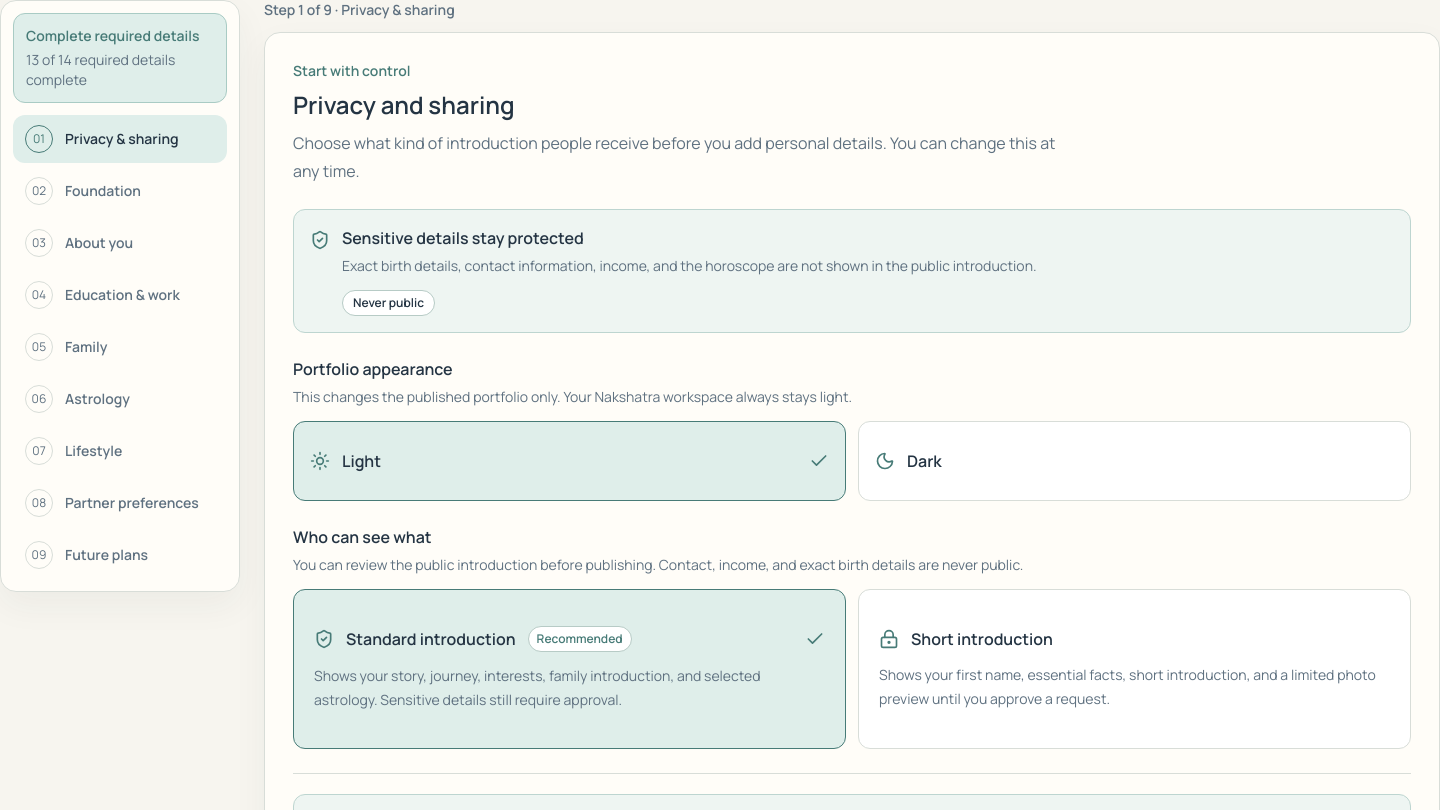
Test: blueprint form › marks publishing requirements and uses clear astrology terminology
Click the button named "06Astrology" at point(120, 399), box [13,375,227,423]
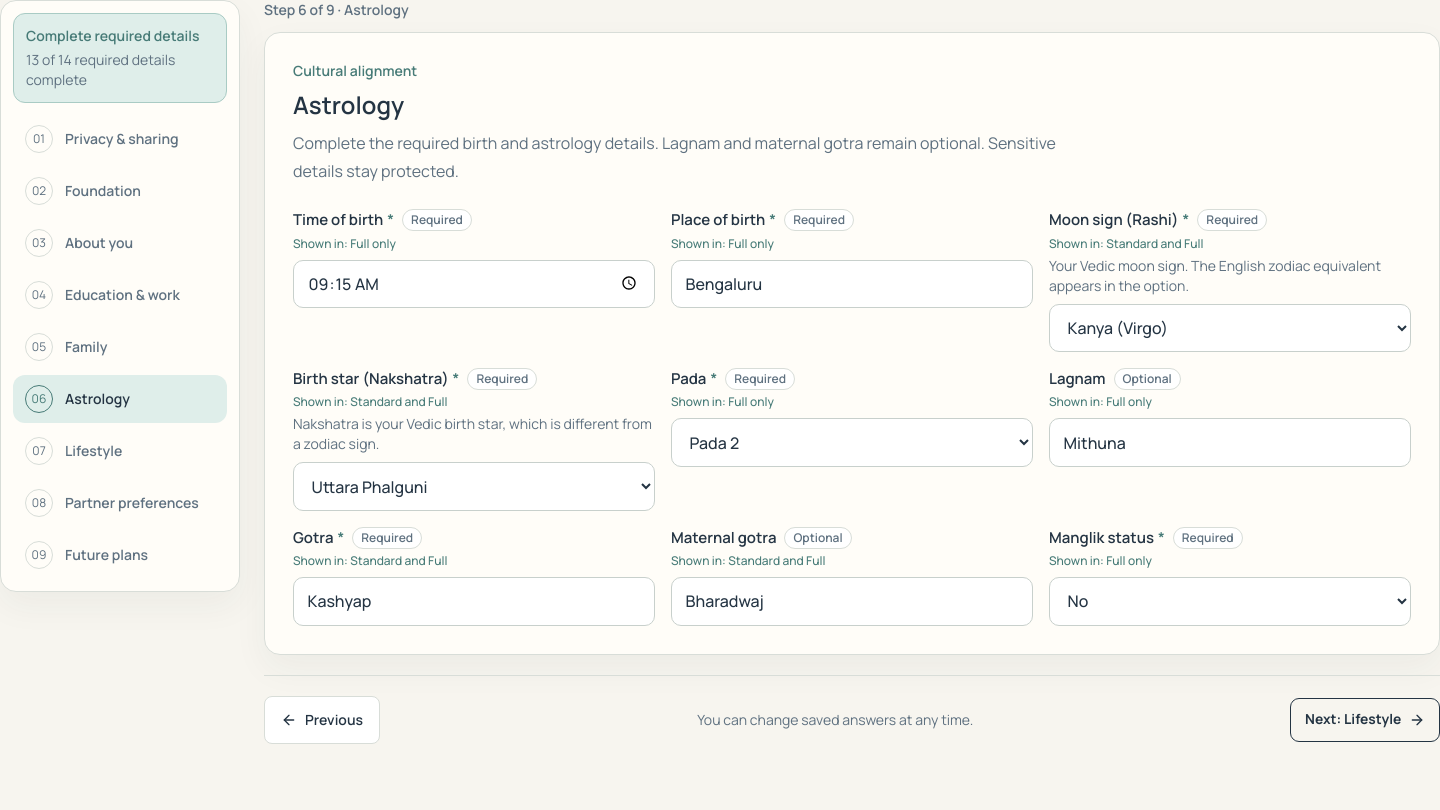
Expected: the text "Shown in: Full only" below "Time of birth" is shown, [293,234,396,252]
Expected: the text "Shown in: Standard and Full" below "Moon sign (Rashi)" is shown, [1049,234,1204,252]
